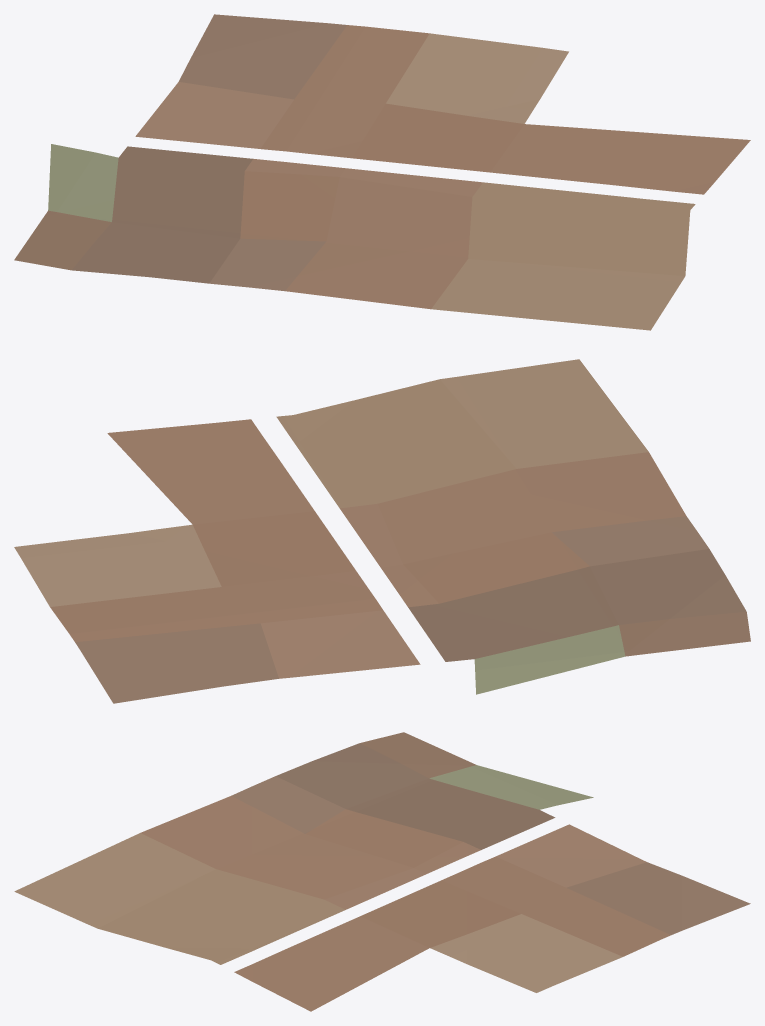
File: farm_9_32_soil.glb
3 renders of one model, top to bottom at view 1: azimuth 30°, elevation 25°; view 2: azimuth 150°, elevation 25°; view 3: azimuth 270°, elevation 25°, orthographic. The views are drawn at different scales.
Visible parts, largest first — view 1: geometry_0; view 2: geometry_0; view 3: geometry_0.
Part boxes in pixels (left/top/right/bottom): geometry_0: left=14, top=14, right=750, bottom=330; geometry_0: left=14, top=359, right=750, bottom=703; geometry_0: left=14, top=732, right=750, bottom=1011.
Size of the model in its own units: 243 by 4.06 by 274.
